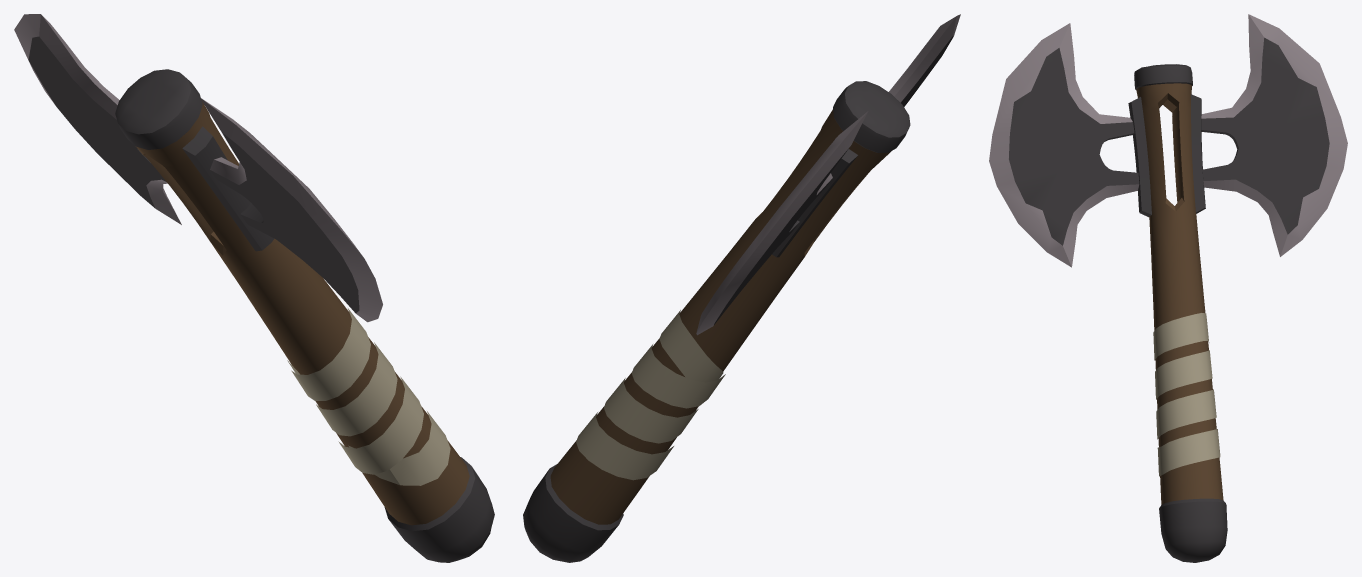
Rendered from q_axe.glb.
The picture shows the model from 3 angles, left to right: view 1: azimuth 30°, elevation 25°; view 2: azimuth 150°, elevation 25°; view 3: azimuth 270°, elevation 25°; orthographic projection. The views are drawn at different scales.
Visible parts, largest first — view 1: Weapon_DoubleAxe; view 2: Weapon_DoubleAxe; view 3: Weapon_DoubleAxe.
Boxes of the visible parts, bbox=[...] form: Weapon_DoubleAxe: bbox=[14, 14, 494, 562]; Weapon_DoubleAxe: bbox=[523, 14, 960, 562]; Weapon_DoubleAxe: bbox=[989, 14, 1347, 562].
Size of the model in its own units: 0.602 by 0.8573 by 0.6563.
1 material, 1 textured.
